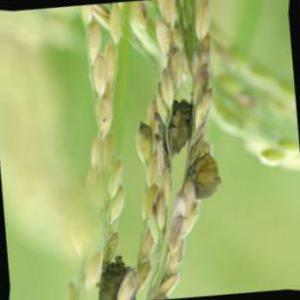Leaf_Scald: (188, 153, 222, 206), (88, 255, 128, 300), (170, 93, 193, 156)
